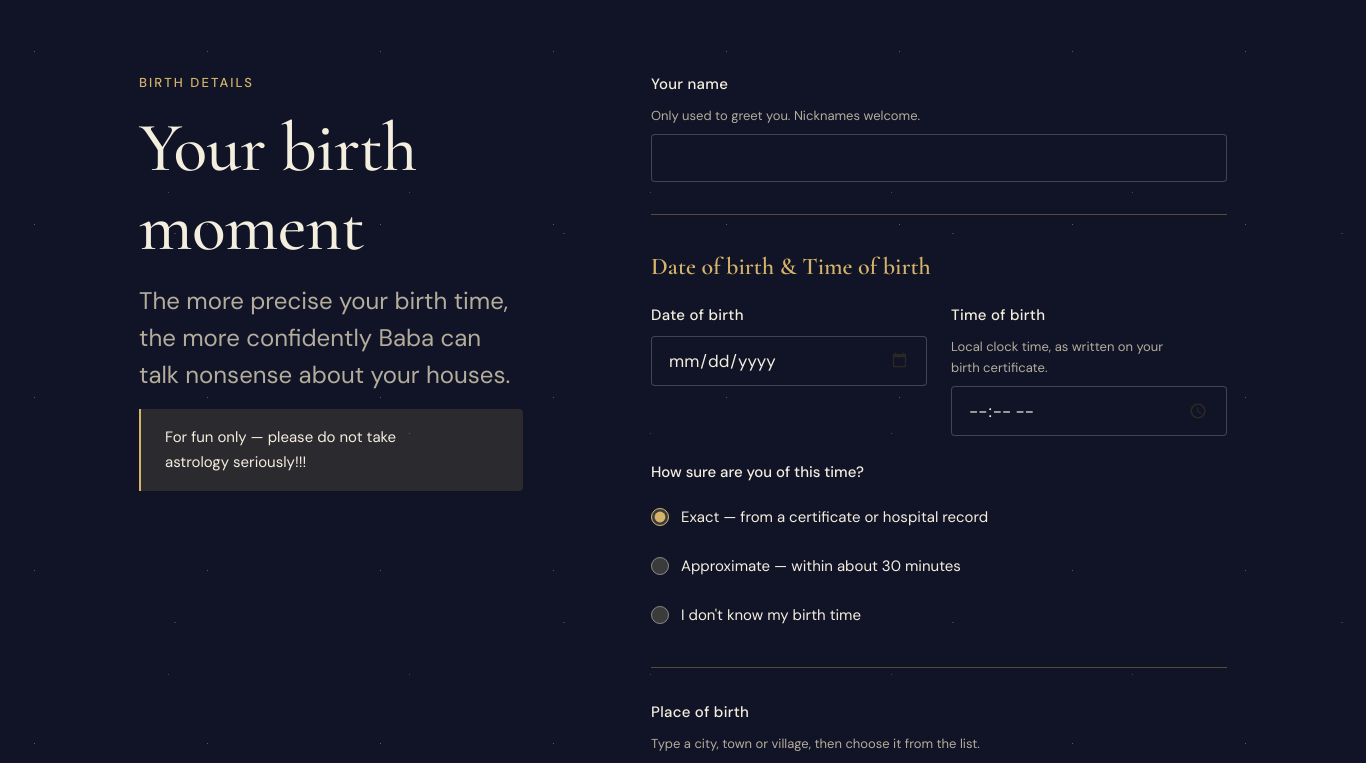
Test: BirthDetailsPage › hides the time input and explains when the time is unknown
The width and height of the screenshot is (1366, 763).
Click the radio button labelled "I don't know my birth time" at (660, 615), box x1=651 y1=606 x2=669 y2=624
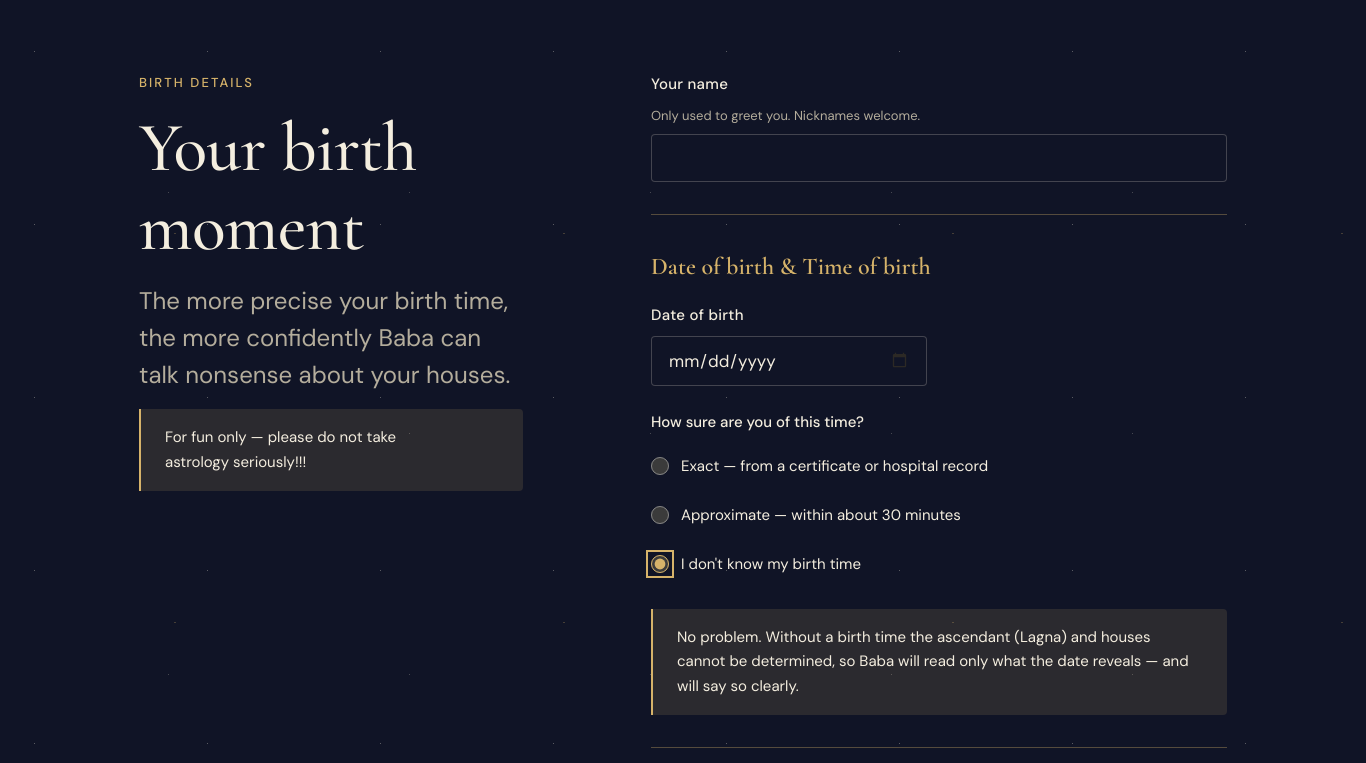
Check: the text "ascendant (Lagna) and houses cannot be determined" is shown, box x1=677 y1=626 x2=1189 y2=696
